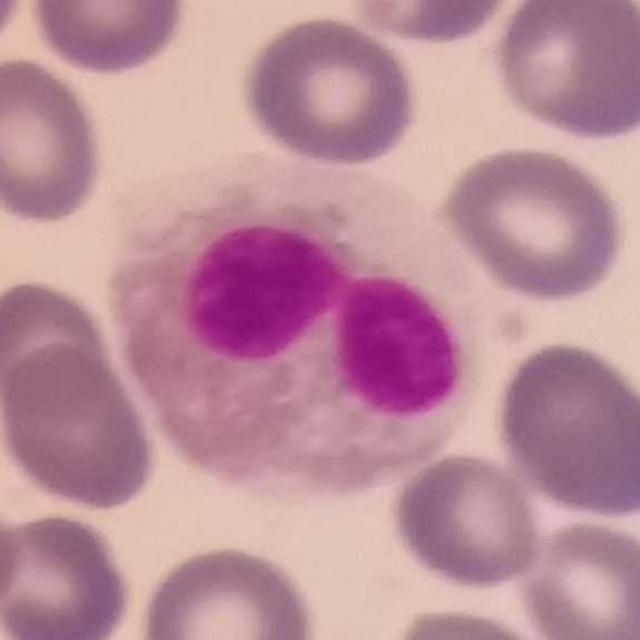eosino: (107, 158, 486, 496)
